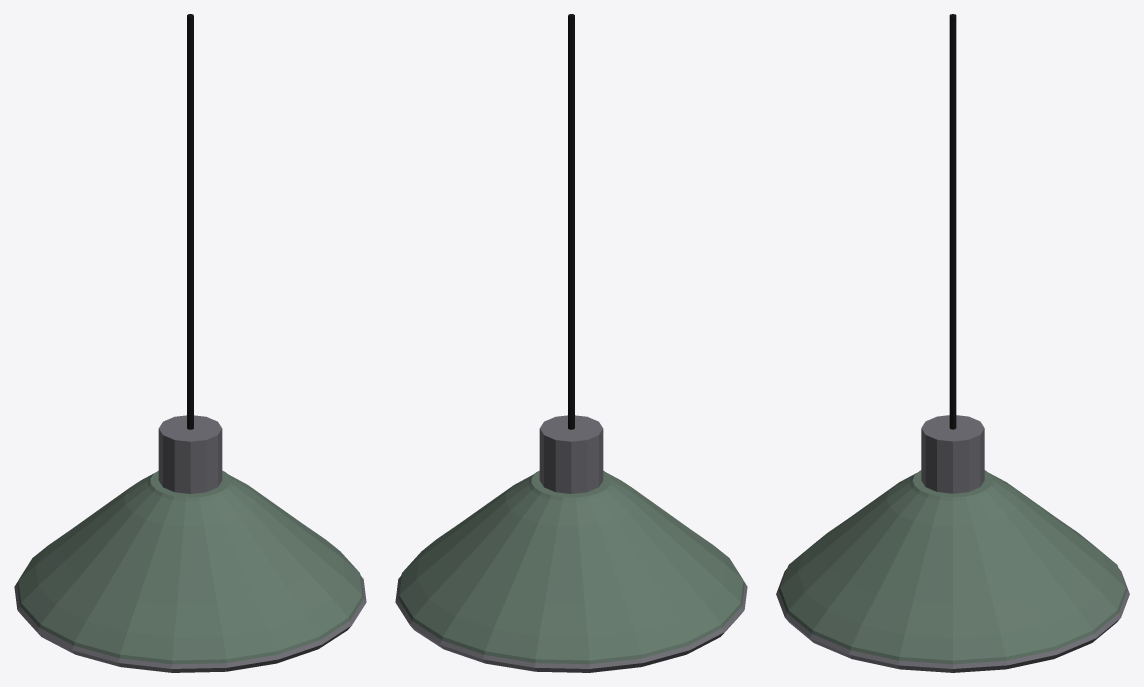
The model's file is lamp.glb.
3 renders of one model, left to right at view 1: azimuth 30°, elevation 25°; view 2: azimuth 150°, elevation 25°; view 3: azimuth 270°, elevation 25°, orthographic.
Parts seen in each view (by area): view 1: Lamp; view 2: Lamp; view 3: Lamp.
Part boxes in pixels (box(x1,y1,x2,y2)): Lamp: box(14, 14, 366, 672); Lamp: box(395, 14, 747, 672); Lamp: box(776, 14, 1129, 672).
Bounding box in the file's own units: 0.614 × 1.19 × 0.614.
